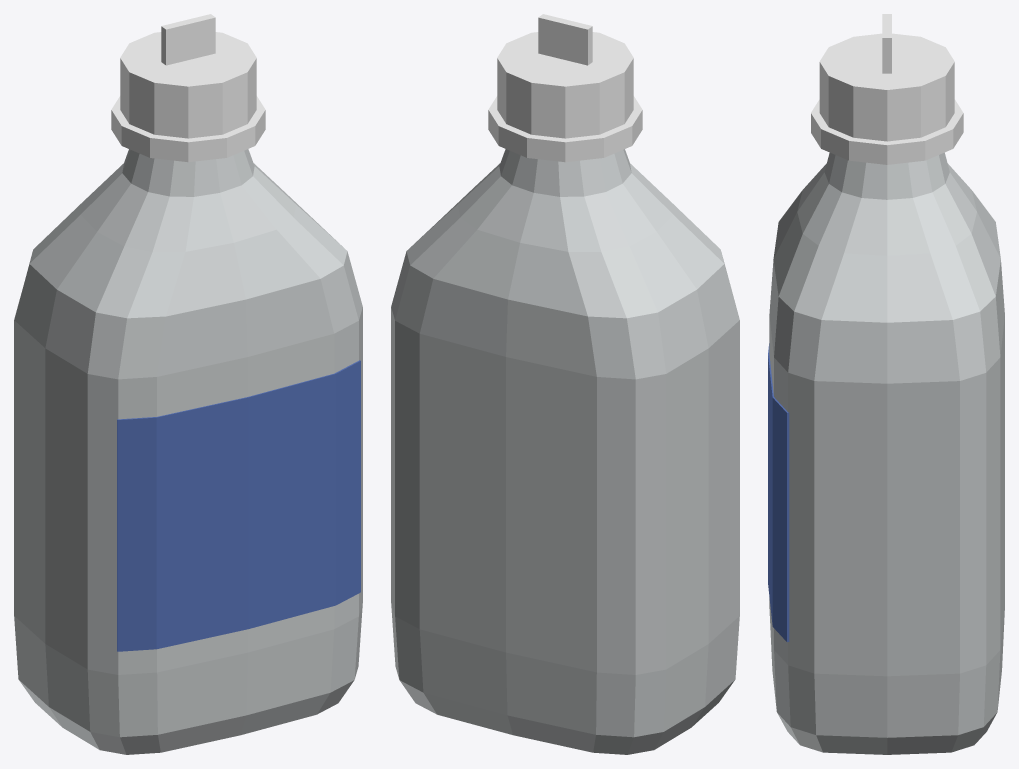
The model's file is saline_bottle_lowpoly.fbx.
The picture shows the model from 3 angles, left to right: view 1: azimuth 30°, elevation 25°; view 2: azimuth 150°, elevation 25°; view 3: azimuth 270°, elevation 25°; orthographic projection.
Visible parts, largest first — view 1: Bottle_Body, Bottle_Label, Bottle_Cap; view 2: Bottle_Body, Bottle_Cap; view 3: Bottle_Body, Bottle_Cap, Bottle_Label.
Boxes of the visible parts, x1,y1,x2,y2 form: Bottle_Body: [14, 149, 362, 754]; Bottle_Label: [117, 360, 360, 651]; Bottle_Cap: [111, 14, 265, 162]; Bottle_Body: [391, 149, 739, 754]; Bottle_Cap: [488, 14, 642, 162]; Bottle_Body: [769, 152, 1004, 754]; Bottle_Cap: [811, 14, 963, 164]; Bottle_Label: [768, 343, 789, 642].
Bounding box in the file's own units: 7.5 × 16.9 × 5.43.
